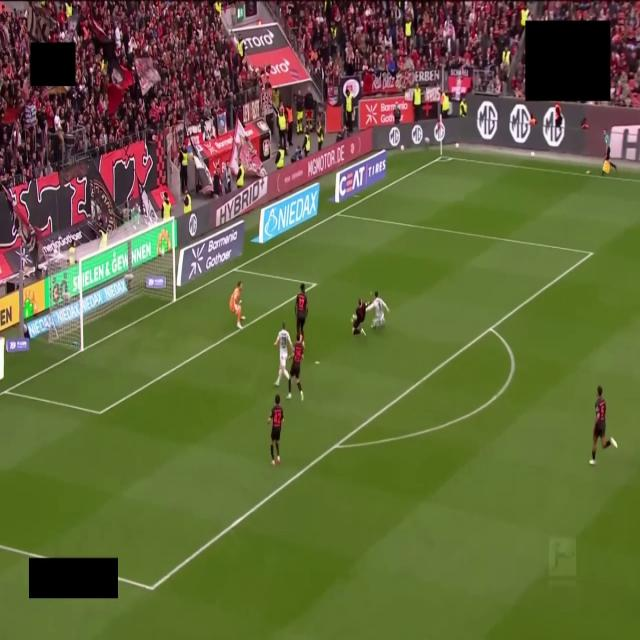player: (590, 386, 617, 465), (274, 323, 293, 386), (287, 335, 304, 400), (268, 394, 283, 465), (367, 291, 388, 328), (295, 284, 307, 339), (230, 281, 244, 328), (352, 299, 367, 335)
